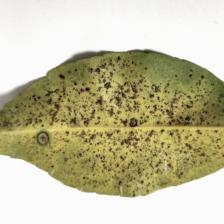canker: (30, 81, 210, 167)
